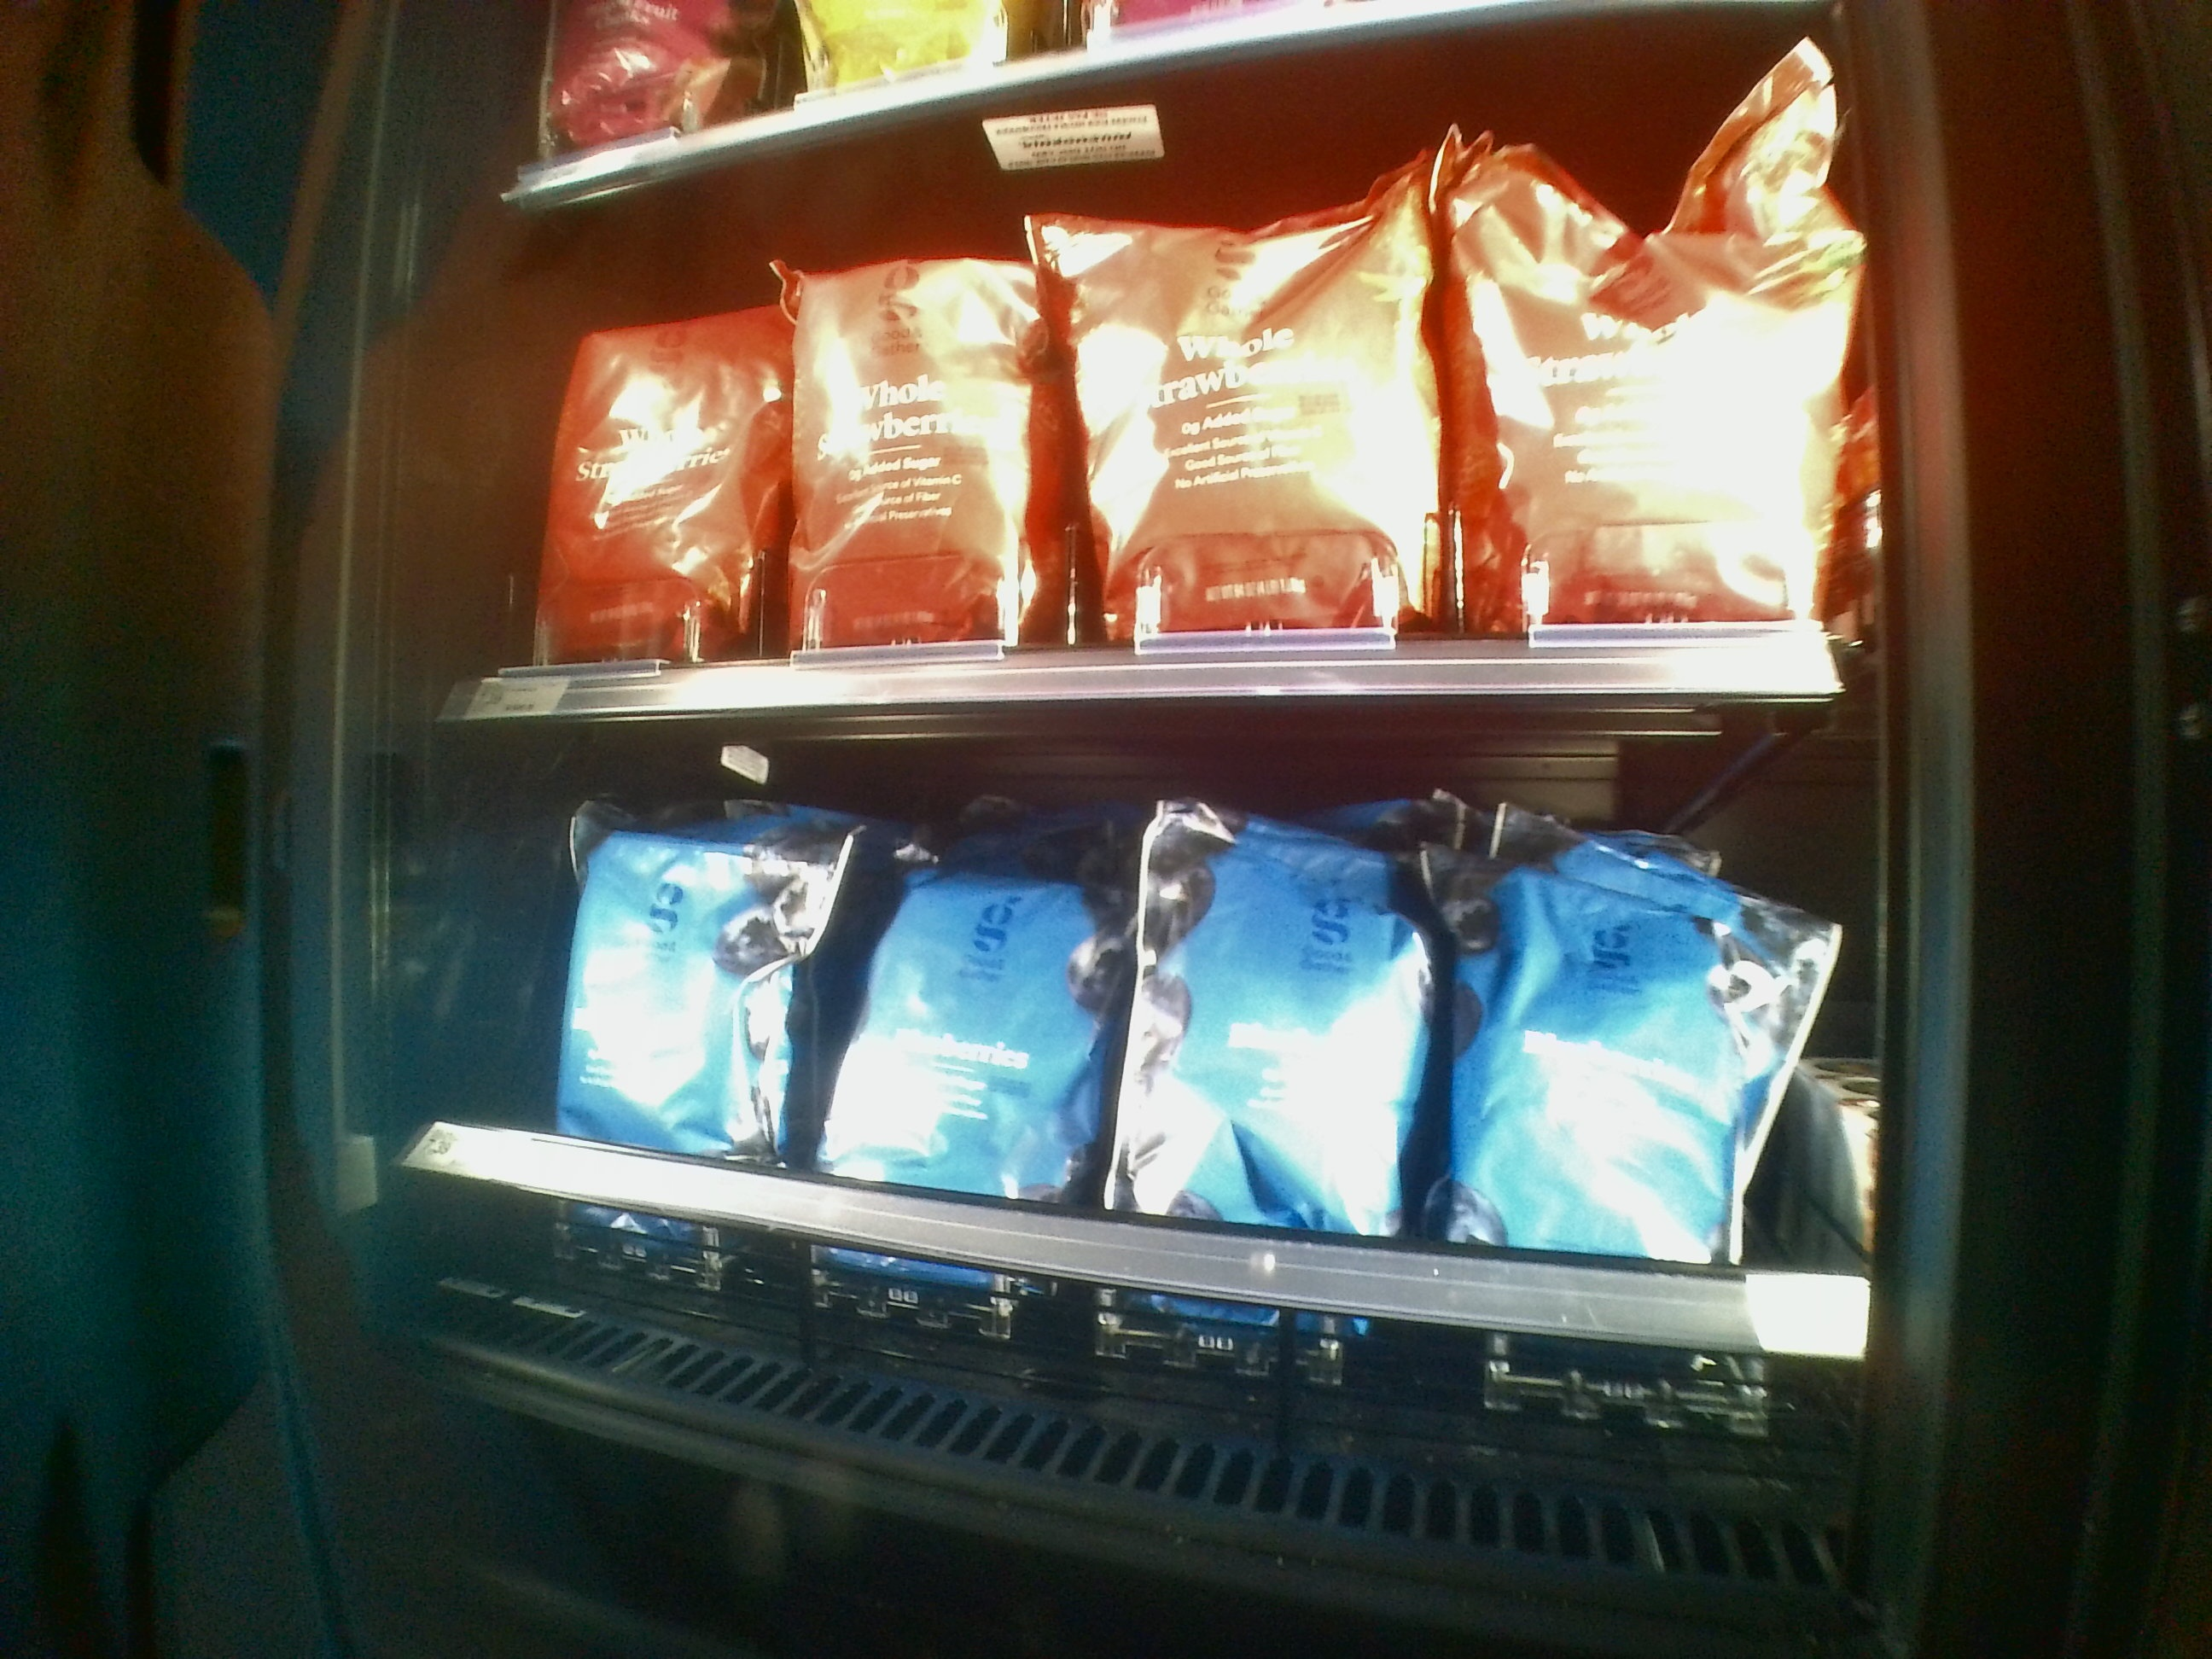shelf: (460, 723, 1839, 1513), (507, 45, 1850, 725)
